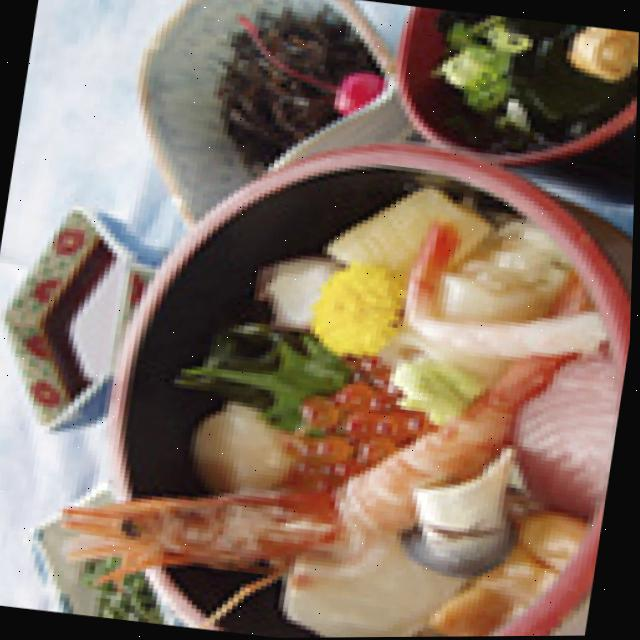刺身生食: (44, 115, 637, 640)
